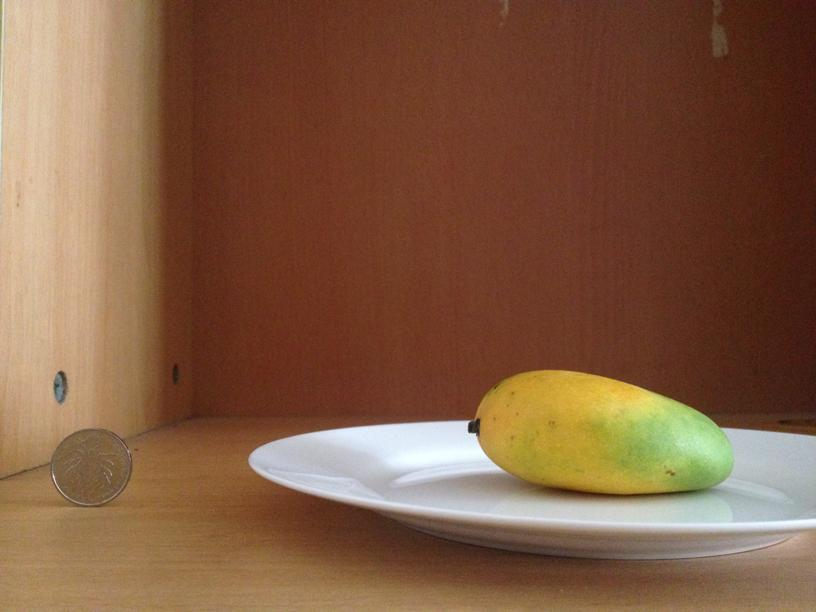coin: (46, 428, 132, 507)
mango: (476, 368, 731, 493)
